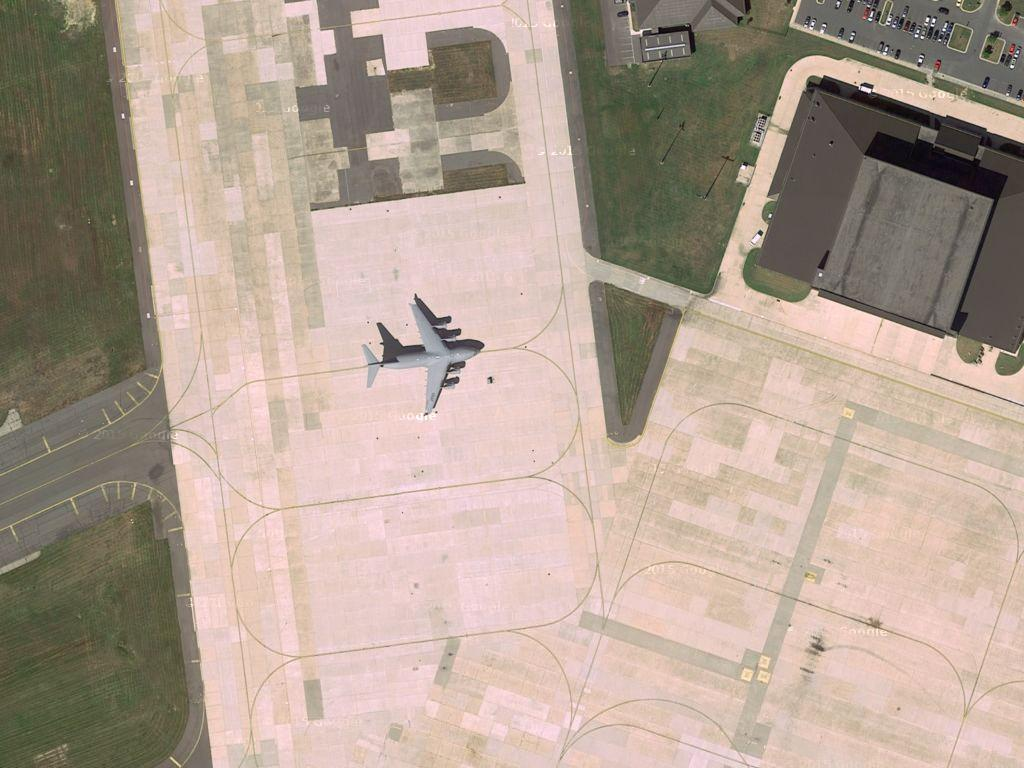C-17: (360, 292, 482, 420)
